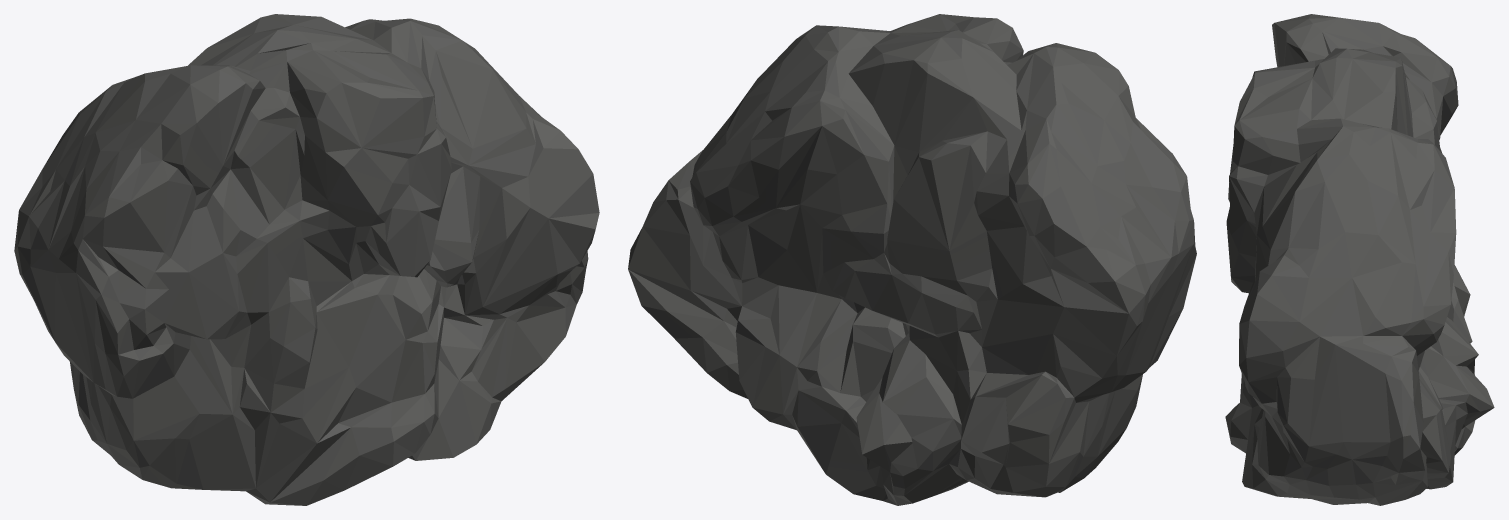
Rendered from worlds_SM_Env_Cliff_Rough_01.gltf.
3 renders of one model, left to right at view 1: azimuth 30°, elevation 25°; view 2: azimuth 150°, elevation 25°; view 3: azimuth 270°, elevation 25°, orthographic. The views are drawn at different scales.
Visible parts, largest first — view 1: SM_Env_Cliff_Rough_01; view 2: SM_Env_Cliff_Rough_01; view 3: SM_Env_Cliff_Rough_01.
Boxes of the visible parts, left/top/right/bottom form: SM_Env_Cliff_Rough_01: left=14, top=14, right=599, bottom=505; SM_Env_Cliff_Rough_01: left=628, top=14, right=1196, bottom=505; SM_Env_Cliff_Rough_01: left=1225, top=14, right=1494, bottom=505.
Size of the model in its own units: 28.51 by 23.31 by 13.53.
Materials: 1 (1 with a texture image).
